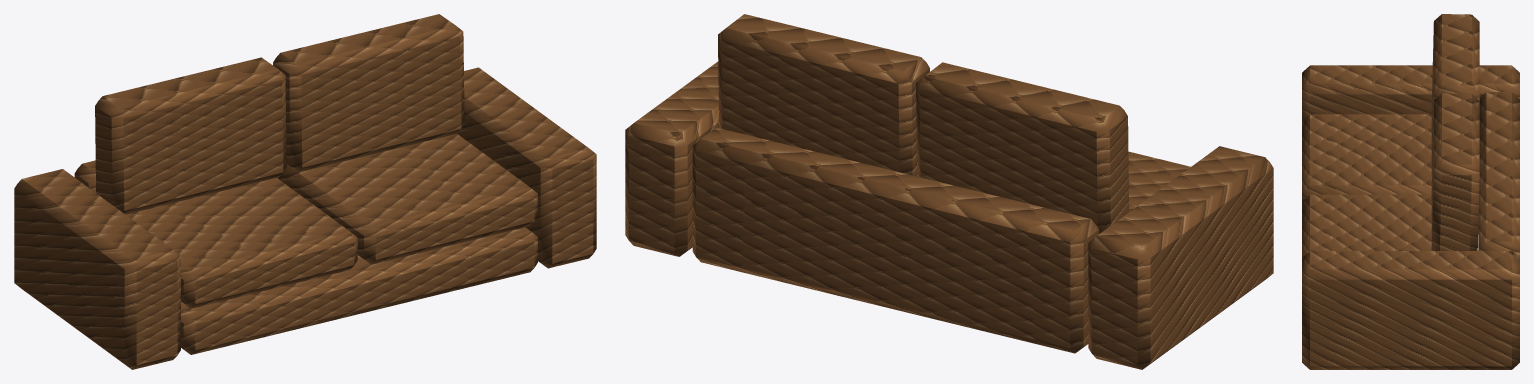
File: sofa.fbx
The picture shows the model from 3 angles, left to right: view 1: azimuth 30°, elevation 25°; view 2: azimuth 150°, elevation 25°; view 3: azimuth 270°, elevation 25°; orthographic projection. The views are drawn at different scales.
Parts seen in each view (by area): view 1: sofa; view 2: sofa; view 3: sofa.
Boxes of the visible parts, x1,y1,x2,y2 form: sofa: (14,14,596,369); sofa: (625,14,1273,369); sofa: (1302,14,1519,369).
Size of the model in its own units: 20.91 by 8.26 by 9.14.
Materials: 1 (1 with a texture image).
